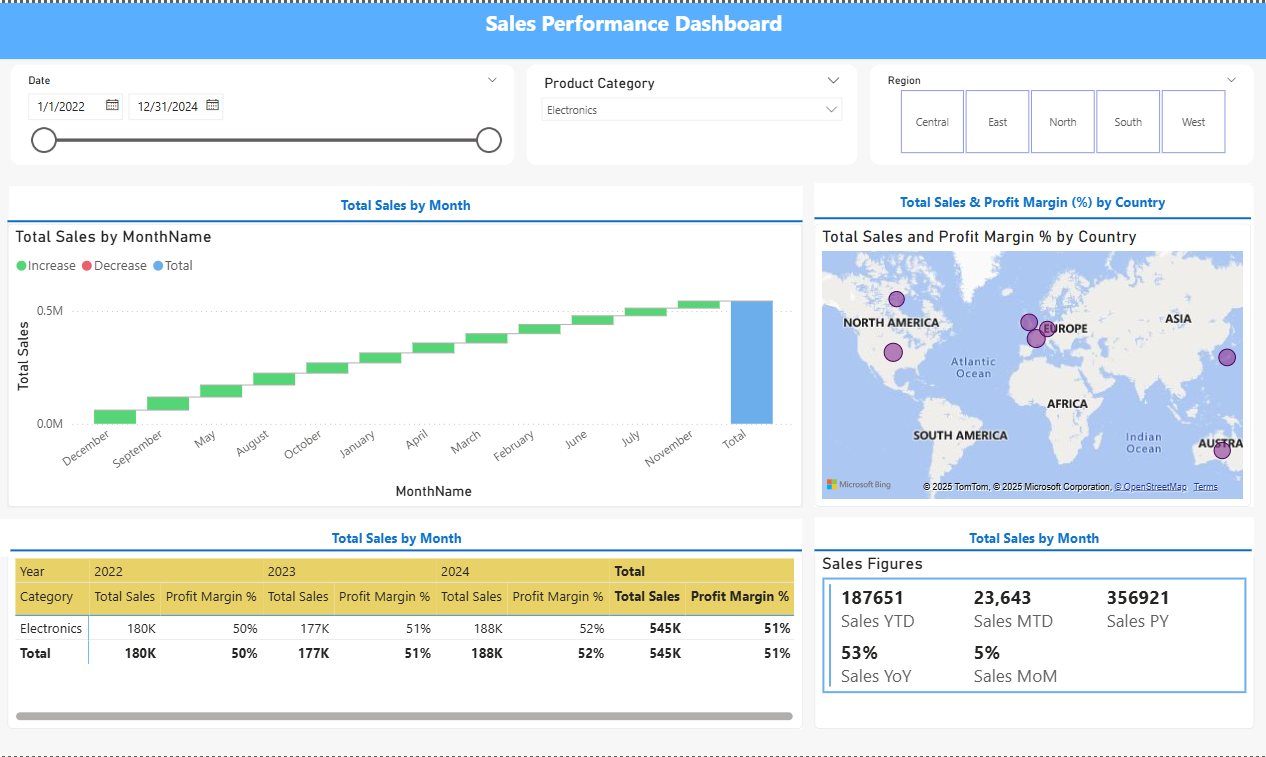

This screenshot's page, from the dashboard's own definition file:
{"tool":"powerbi","page":{"name":"Sales Performance","canvas":[1280,760],"ordinal":1},"visuals":[{"type":"shape","box":[10.6,520.9,799.5,212],"z":0},{"type":"shape","box":[822.2,184.7,443.7,324],"z":1000},{"type":"shape","box":[10.6,184.7,799.5,324],"z":2000},{"type":"waterfallChart","fields":{"Category":["Date.MonthName"],"Y":["Sales.Total Sales"]},"box":[7.6,222.6,802.5,286.2],"z":3000},{"type":"pivotTable","fields":{"Rows":["Products.Category"],"Columns":["Date.Year"],"Values":["Sales.Total Sales","Sales.Profit Margin %"]},"box":[7.6,552.7,802.5,180.2],"z":4000},{"type":"map","fields":{"Category":["Customers.Country"],"Size":["Sales.Total Sales"]},"box":[822.2,222.6,440.6,286.2],"z":5000},{"type":"multiRowCard","title":"Sales Figures","fields":{"Values":["Sales.Sales YTD","Sales.Sales MTD","Sales.Sales PY","Sales.Sales YoY","Sales.Sales MoM"]},"box":[822.5,552.5,443.8,180],"z":6000},{"type":"slicer","fields":{"Values":["Date.Date"]},"box":[10.5,62.6,508.8,101.2],"z":7000},{"type":"slicer","fields":{"Values":["Products.Category"]},"box":[531.7,62.6,333.8,101.2],"z":8000},{"type":"slicer","fields":{"Values":["Customers.Region"]},"box":[878,62.6,387.5,101.2],"z":9000},{"type":"textbox","box":[0,0,1280,56.7],"z":10000},{"type":"shape","box":[9.1,184.7,801,37.9],"z":11000},{"type":"shape","box":[7.6,204.4,802.5,31.8],"z":12000},{"type":"shape","box":[822.2,181.7,440.6,37.9],"z":13000},{"type":"shape","box":[822.2,201.4,440.6,31.8],"z":14000},{"type":"shape","box":[0,520.9,801,37.9],"z":15000},{"type":"shape","box":[11,542,799,21],"z":16000},{"type":"shape","box":[822.5,518.8,443.8,38.8],"z":17000},{"type":"shape","box":[822.5,540,441.2,23.8],"z":18000}]}

Visuals, with their boxes in screenshot pixels (x1, y1, x2, y2), scaled from the page's 1280x760 canvas onto the 1266x757 screenshot:
shape: <region>10, 519, 801, 730</region>
shape: <region>813, 184, 1252, 507</region>
shape: <region>10, 184, 801, 507</region>
waterfallChart - Date.MonthName x Sales.Total Sales: <region>8, 222, 801, 507</region>
pivotTable - Products.Category x Date.Year: <region>8, 551, 801, 730</region>
map - Customers.Country x Sales.Total Sales: <region>813, 222, 1249, 507</region>
"Sales Figures" multiRowCard: <region>814, 550, 1252, 730</region>
slicer - Date.Date: <region>10, 62, 514, 163</region>
slicer - Products.Category: <region>526, 62, 856, 163</region>
slicer - Customers.Region: <region>868, 62, 1252, 163</region>
textbox: <region>0, 0, 1265, 56</region>
shape: <region>9, 184, 801, 222</region>
shape: <region>8, 204, 801, 235</region>
shape: <region>813, 181, 1249, 219</region>
shape: <region>813, 201, 1249, 232</region>
shape: <region>0, 519, 792, 557</region>
shape: <region>11, 540, 801, 561</region>
shape: <region>814, 517, 1252, 555</region>
shape: <region>814, 538, 1250, 562</region>
